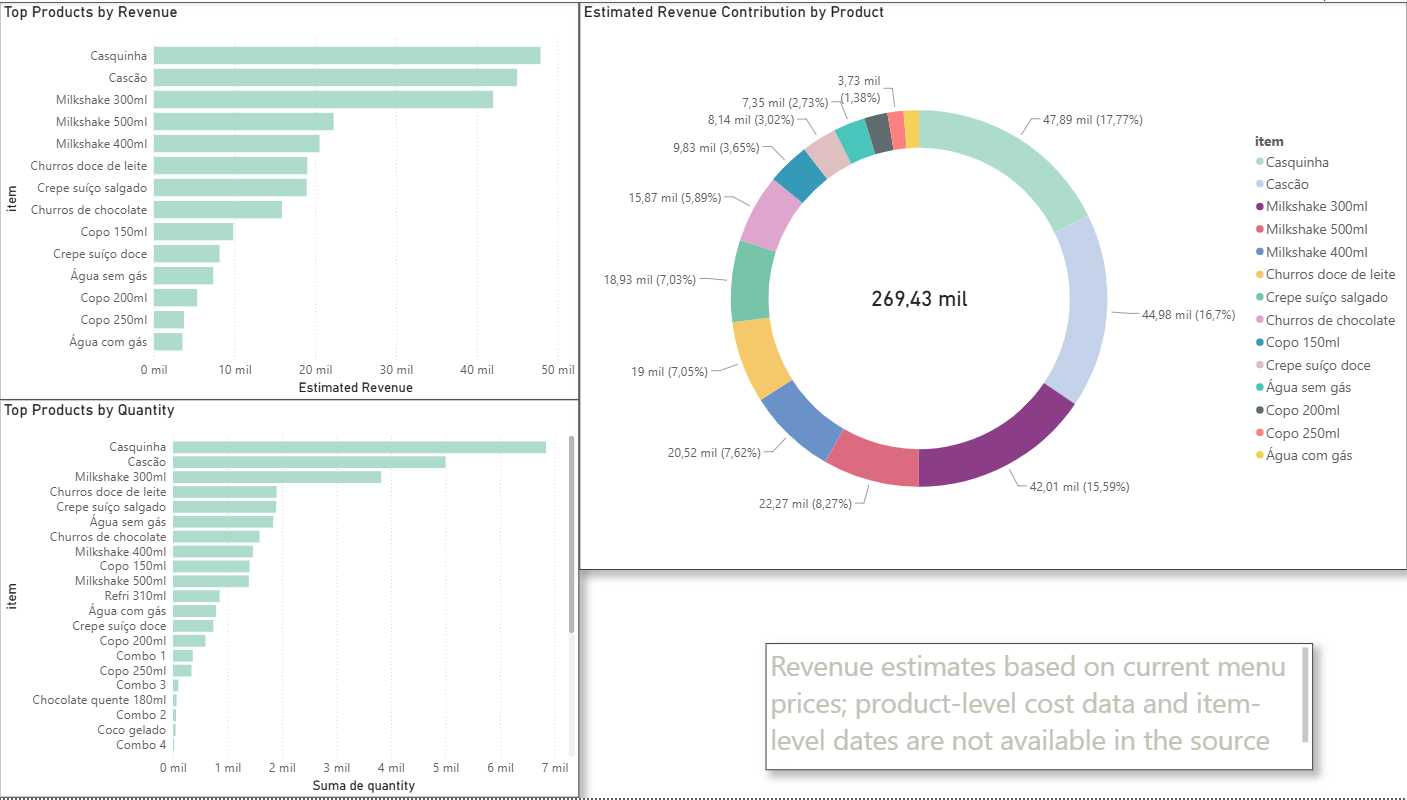

What the dashboard file says about the page in this screenshot:
{"tool":"powerbi","page":{"name":"Product Analysis","canvas":[1920,1080],"ordinal":2},"visuals":[{"type":"barChart","title":"Top Products by Revenue","fields":{"Category":["items_sold.item"],"Y":["Calendar.Estimated Revenue"]},"box":[10,0,786.7,540],"z":0},{"type":"barChart","title":"Top Products by Quantity","fields":{"Category":["items_sold.item"],"Y":["Sum(items_sold.quantity)"]},"box":[10,540,786.7,540],"z":1},{"type":"donutChart","title":"Estimated Revenue Contribution by Product","fields":{"Category":["items_sold.item"],"Y":["Calendar.Estimated Revenue"]},"box":[796.7,0,1123.3,770],"z":2},{"type":"textbox","box":[1050,870,742,172],"z":3}]}

Visuals, with their boxes in screenshot pixels (x1, y1, x2, y2), scaled from the page's 1920x1080 canvas onto the 1407x800 screenshot:
"Top Products by Revenue" barChart: [7,0,584,400]
"Top Products by Quantity" barChart: [7,400,584,799]
"Estimated Revenue Contribution by Product" donutChart: [584,0,1406,570]
textbox: [769,644,1313,772]
